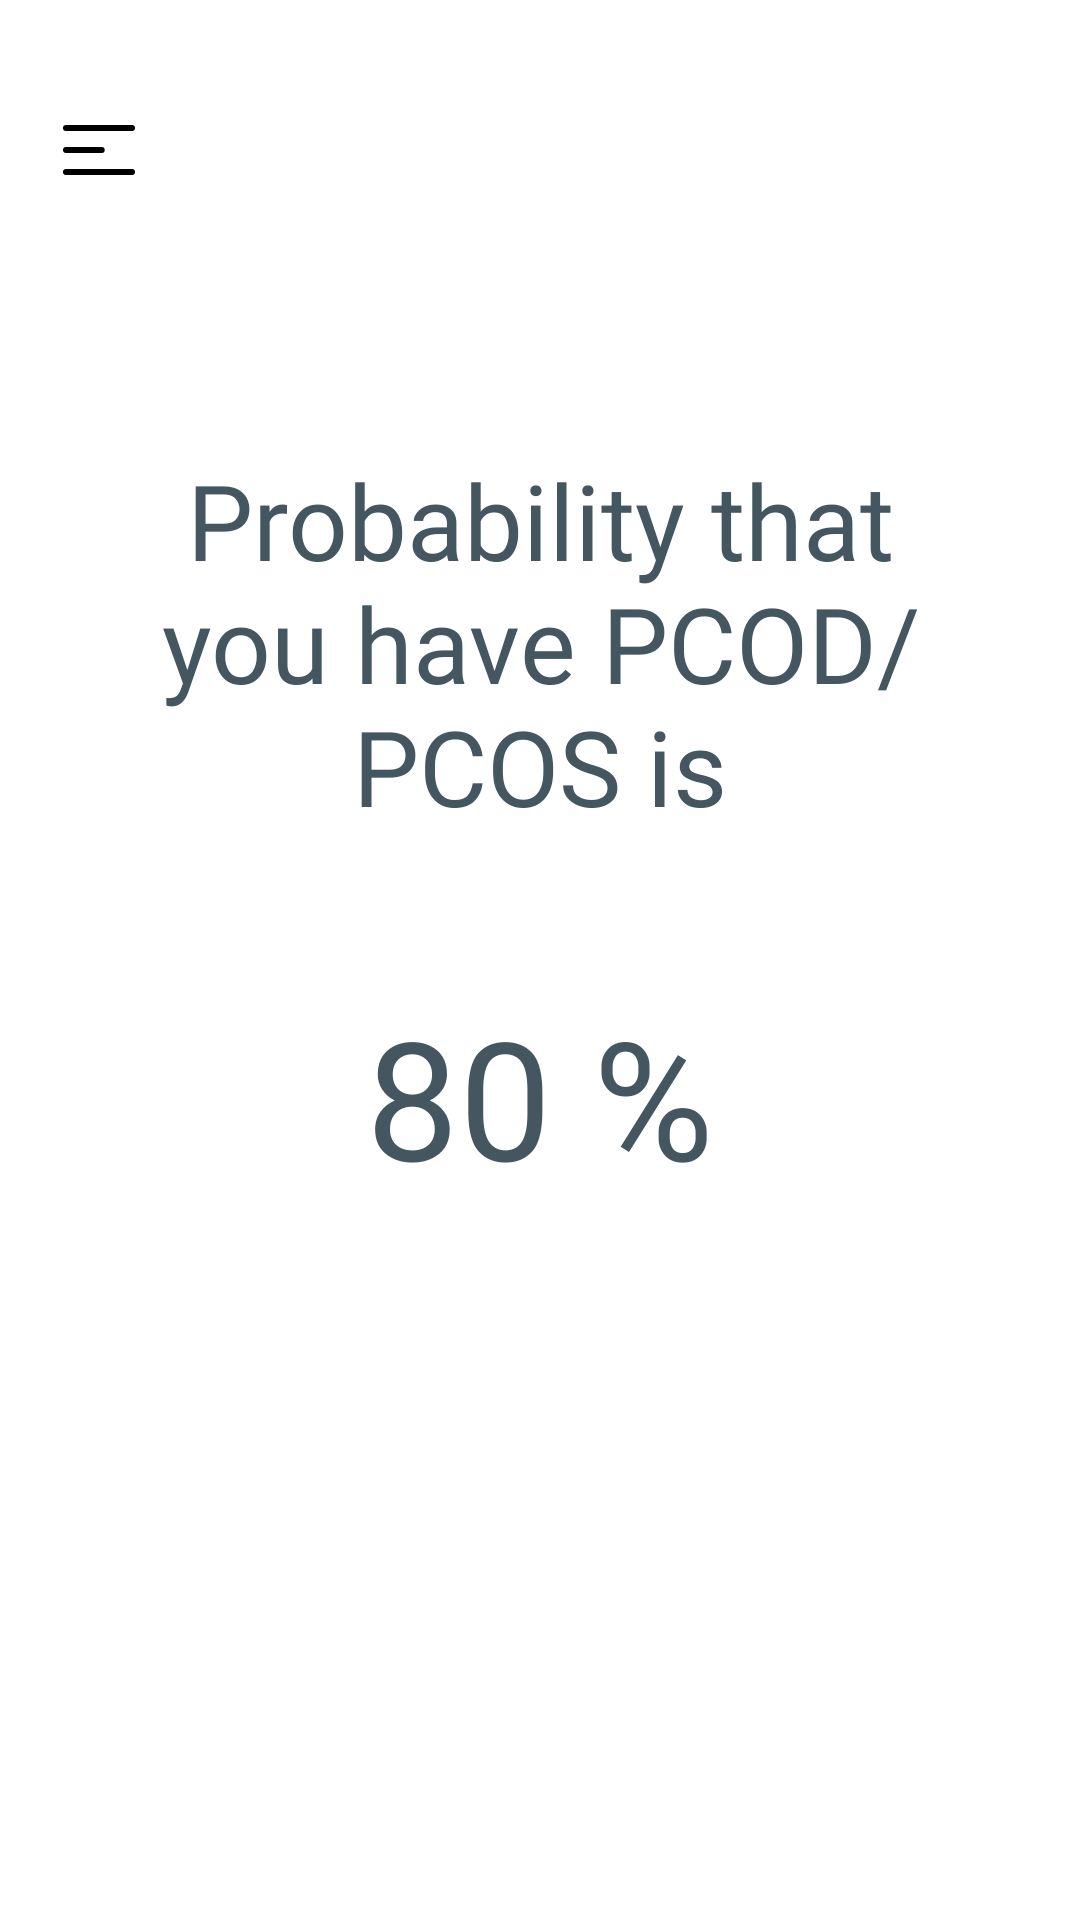

Icons on this 1080w x 1920h Android screen, each with the point to tap as [x,y]:
hamburger: [99,150]
